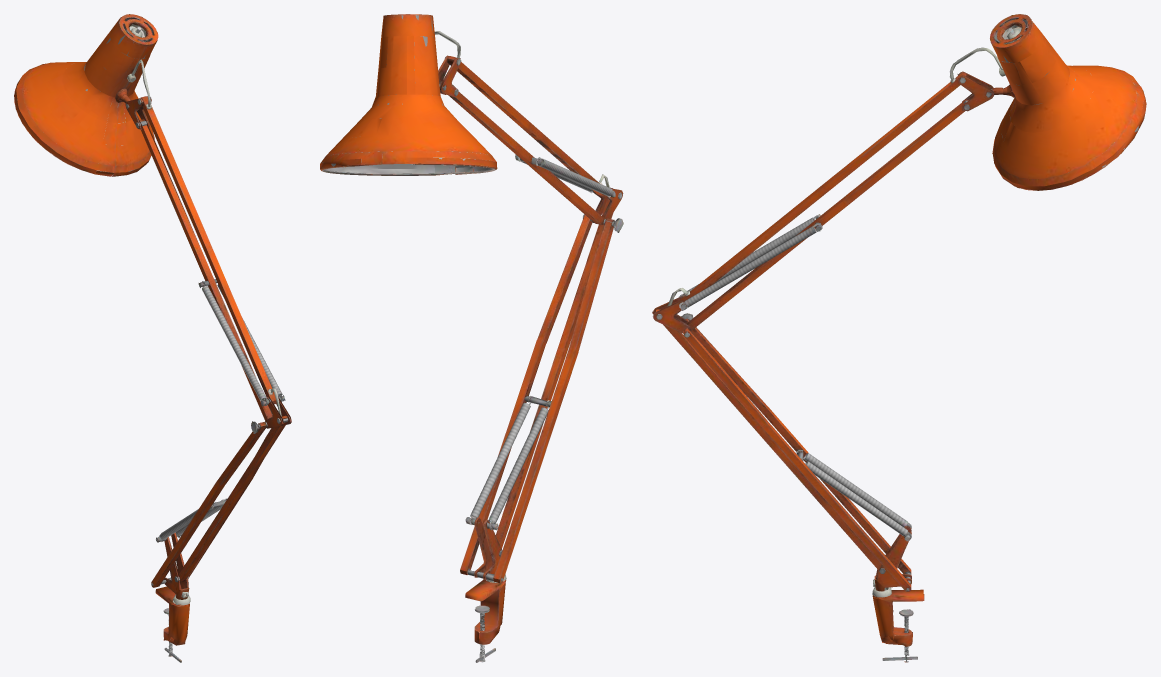
Rendered from desk_lamp_arm_01.glb.
3 views of the same model, side by side, from view 1: azimuth 30°, elevation 25°; view 2: azimuth 150°, elevation 25°; view 3: azimuth 270°, elevation 25° (orthographic). The views are drawn at different scales.
Visible parts, largest first — view 1: desk_lamp_arm_01; view 2: desk_lamp_arm_01; view 3: desk_lamp_arm_01.
Boxes of the visible parts, <box> form: desk_lamp_arm_01: <box>14,14,291,662</box>; desk_lamp_arm_01: <box>320,14,623,662</box>; desk_lamp_arm_01: <box>652,14,1146,662</box>.
Size of the model in its own units: 0.2026 by 0.8928 by 0.6155.
2 materials, 2 textured.
